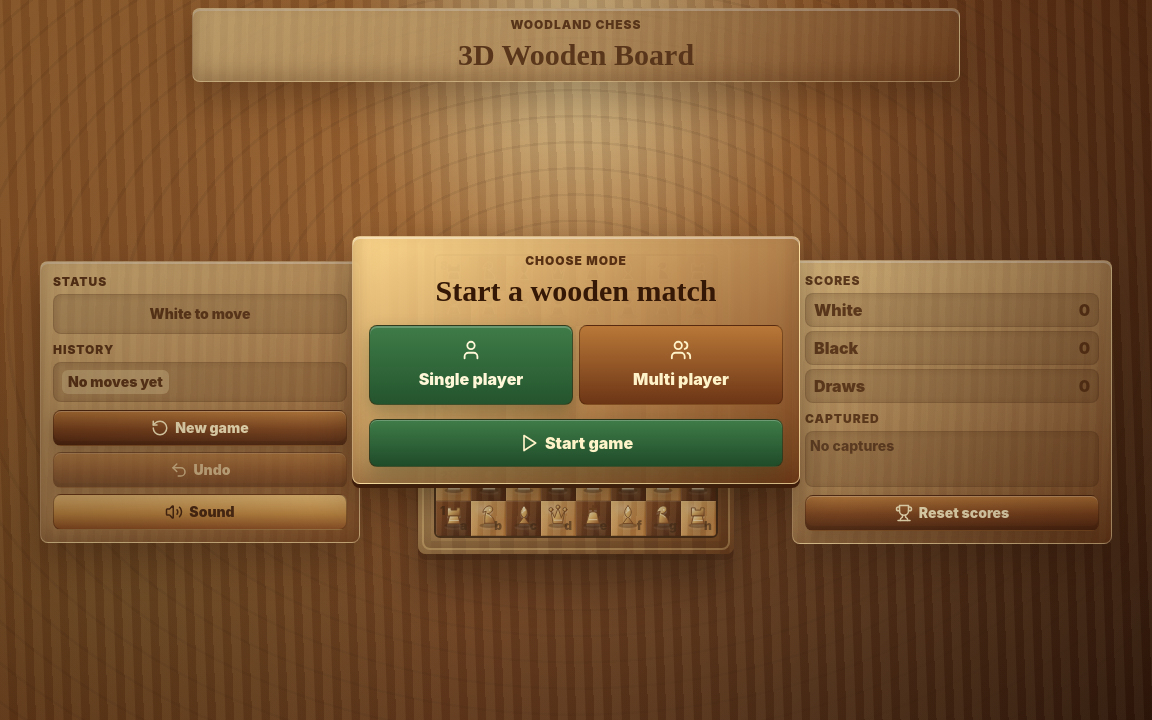
App — board interaction › clicking a non-target empty square deselects piece
The image size is (1152, 720).
What coordinates should you click on to do the following:
click the button "Multi player"
I would click on:
 (681, 365)
Its box is [579,325,783,405].
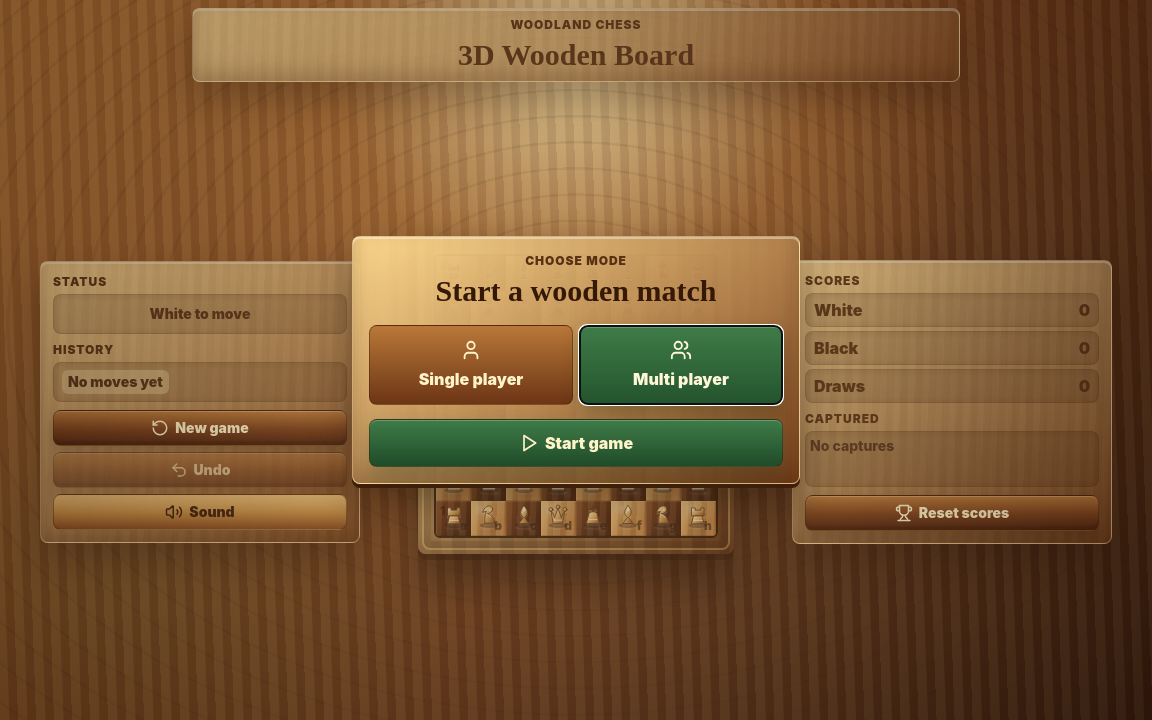
What coordinates should you click on to do the following:
click the button "Start game"
I would click on:
 (576, 443)
Its box is [369,419,783,467].
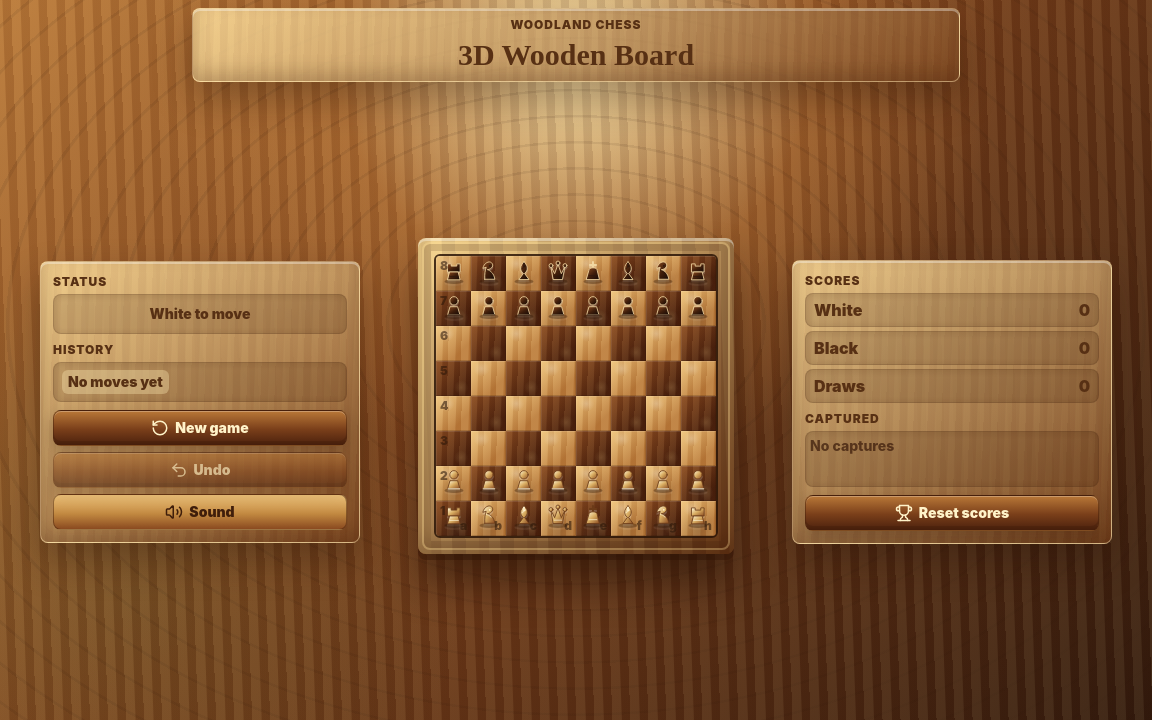
What coordinates should you click on to do the following:
click the button named "e2 white pawn"
I would click on:
 (594, 483)
Its box is [576,466,611,501].
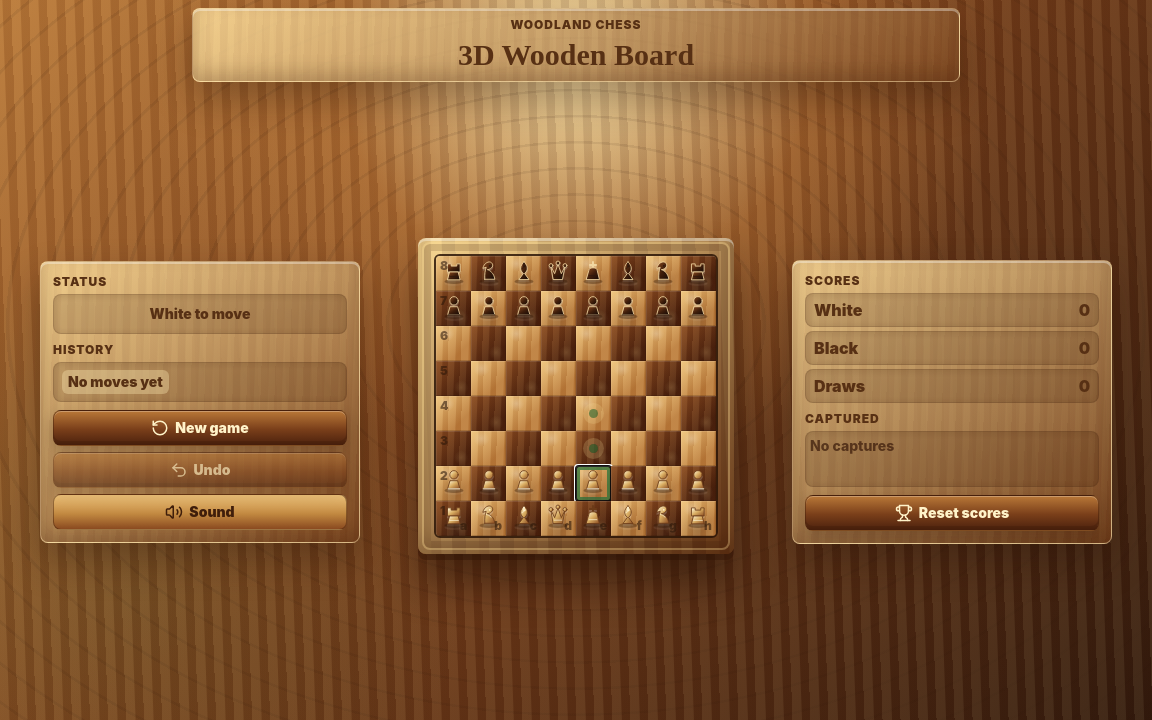
What coordinates should you click on to do the following:
click the button named "e5"
I would click on:
 (594, 378)
Its box is [576,361,611,396].
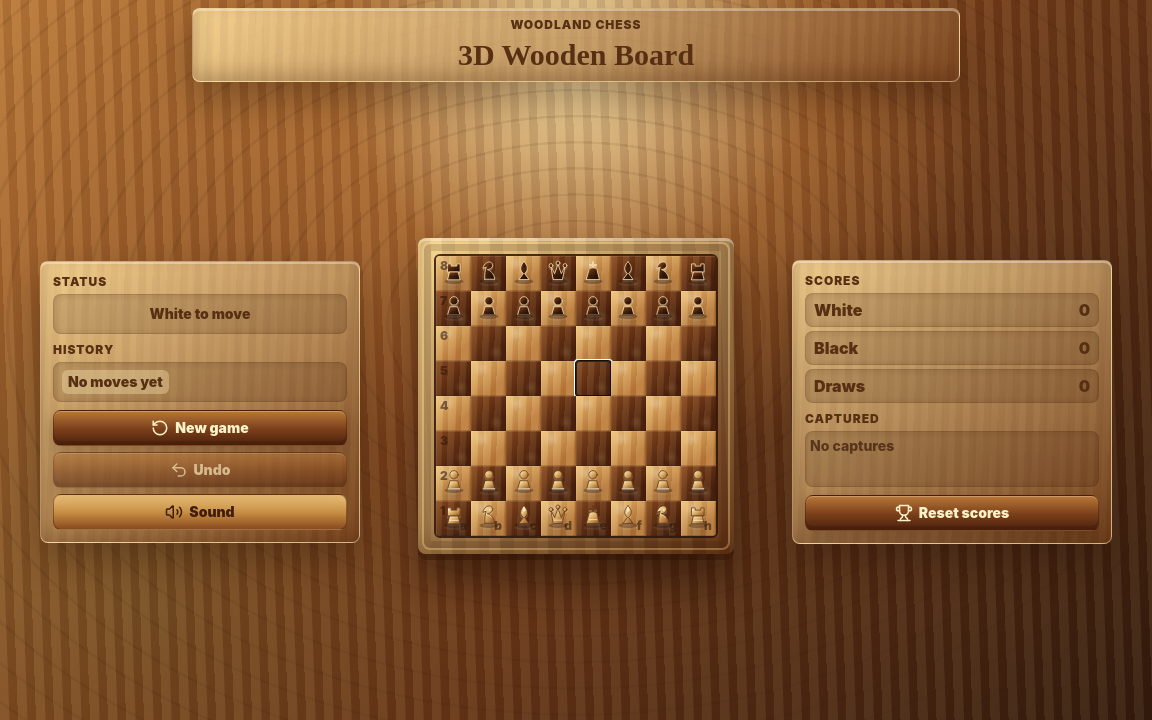
Check: no elements with class "move-target-dot" are shown
